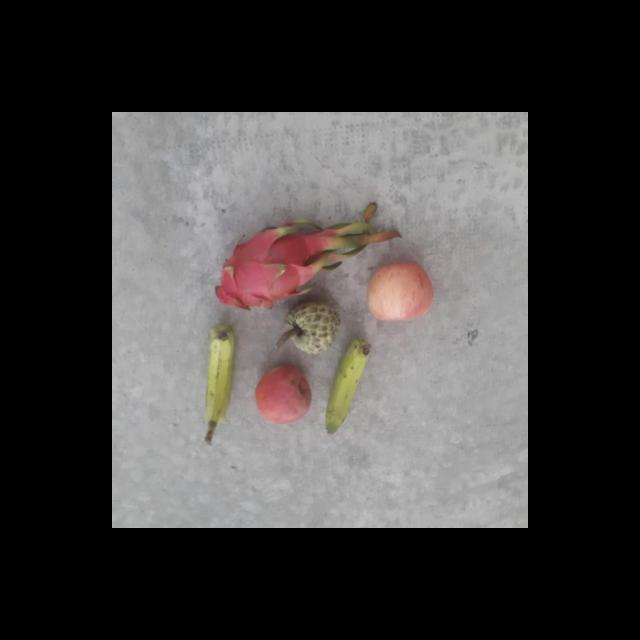Sakya fruit: (280, 298, 342, 356)
apple: (366, 258, 434, 326), (252, 364, 314, 425)
banana: (320, 338, 374, 437), (195, 325, 241, 424)
pitaya: (214, 223, 323, 309)
